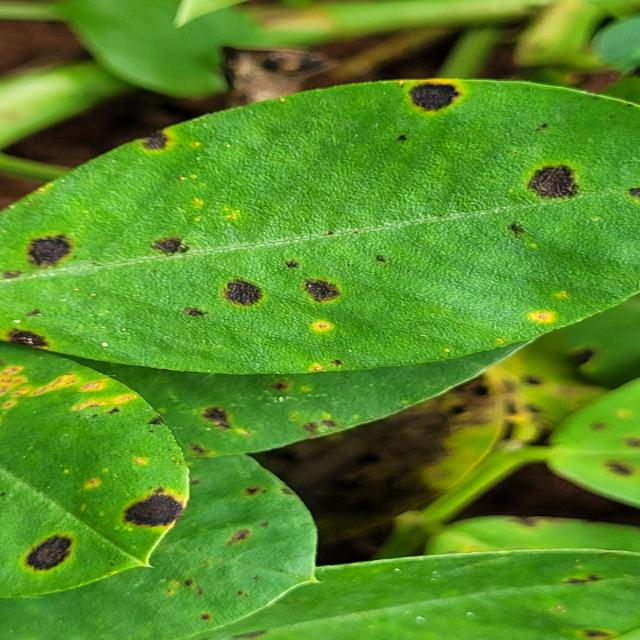Ground nut_tikka leaf spot: (3, 80, 637, 376)
